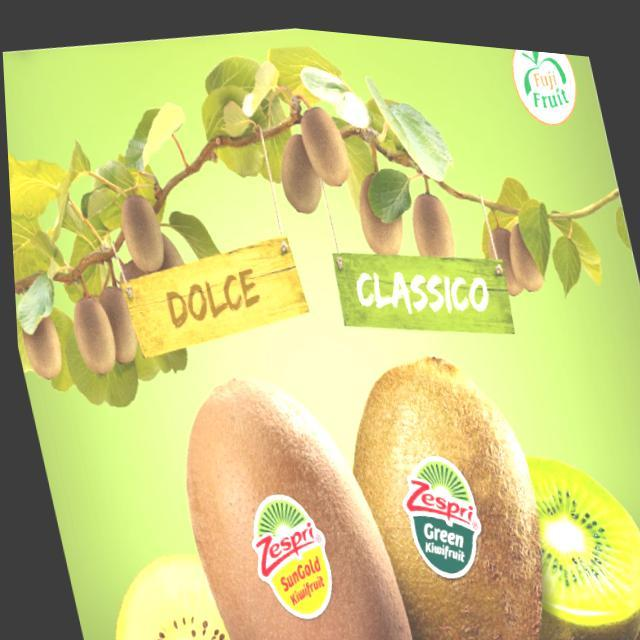kiwi: (318, 328, 563, 640), (155, 345, 413, 640)
